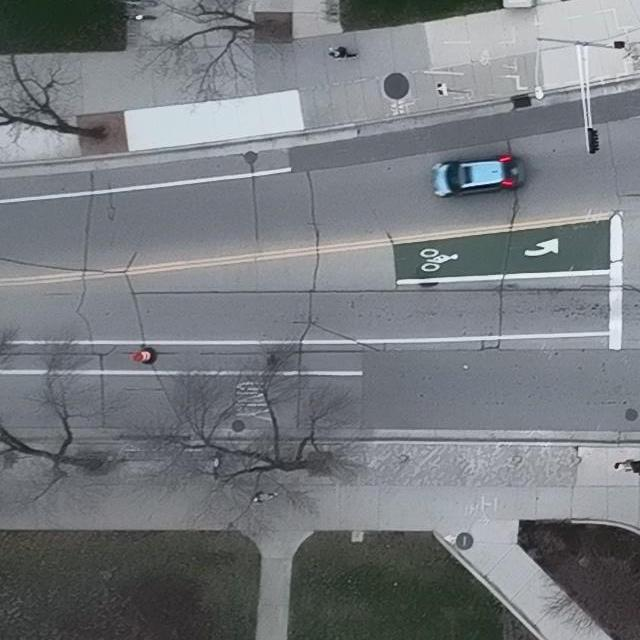car: (431, 154, 526, 198)
